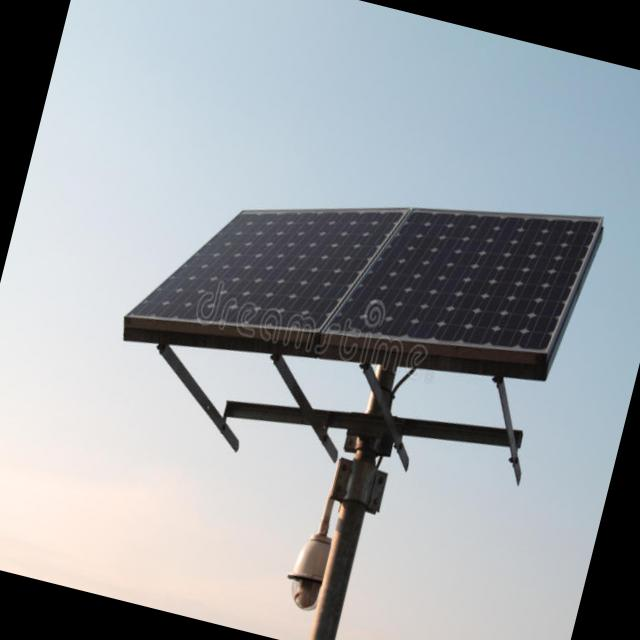no faulty: (130, 212, 599, 342)
